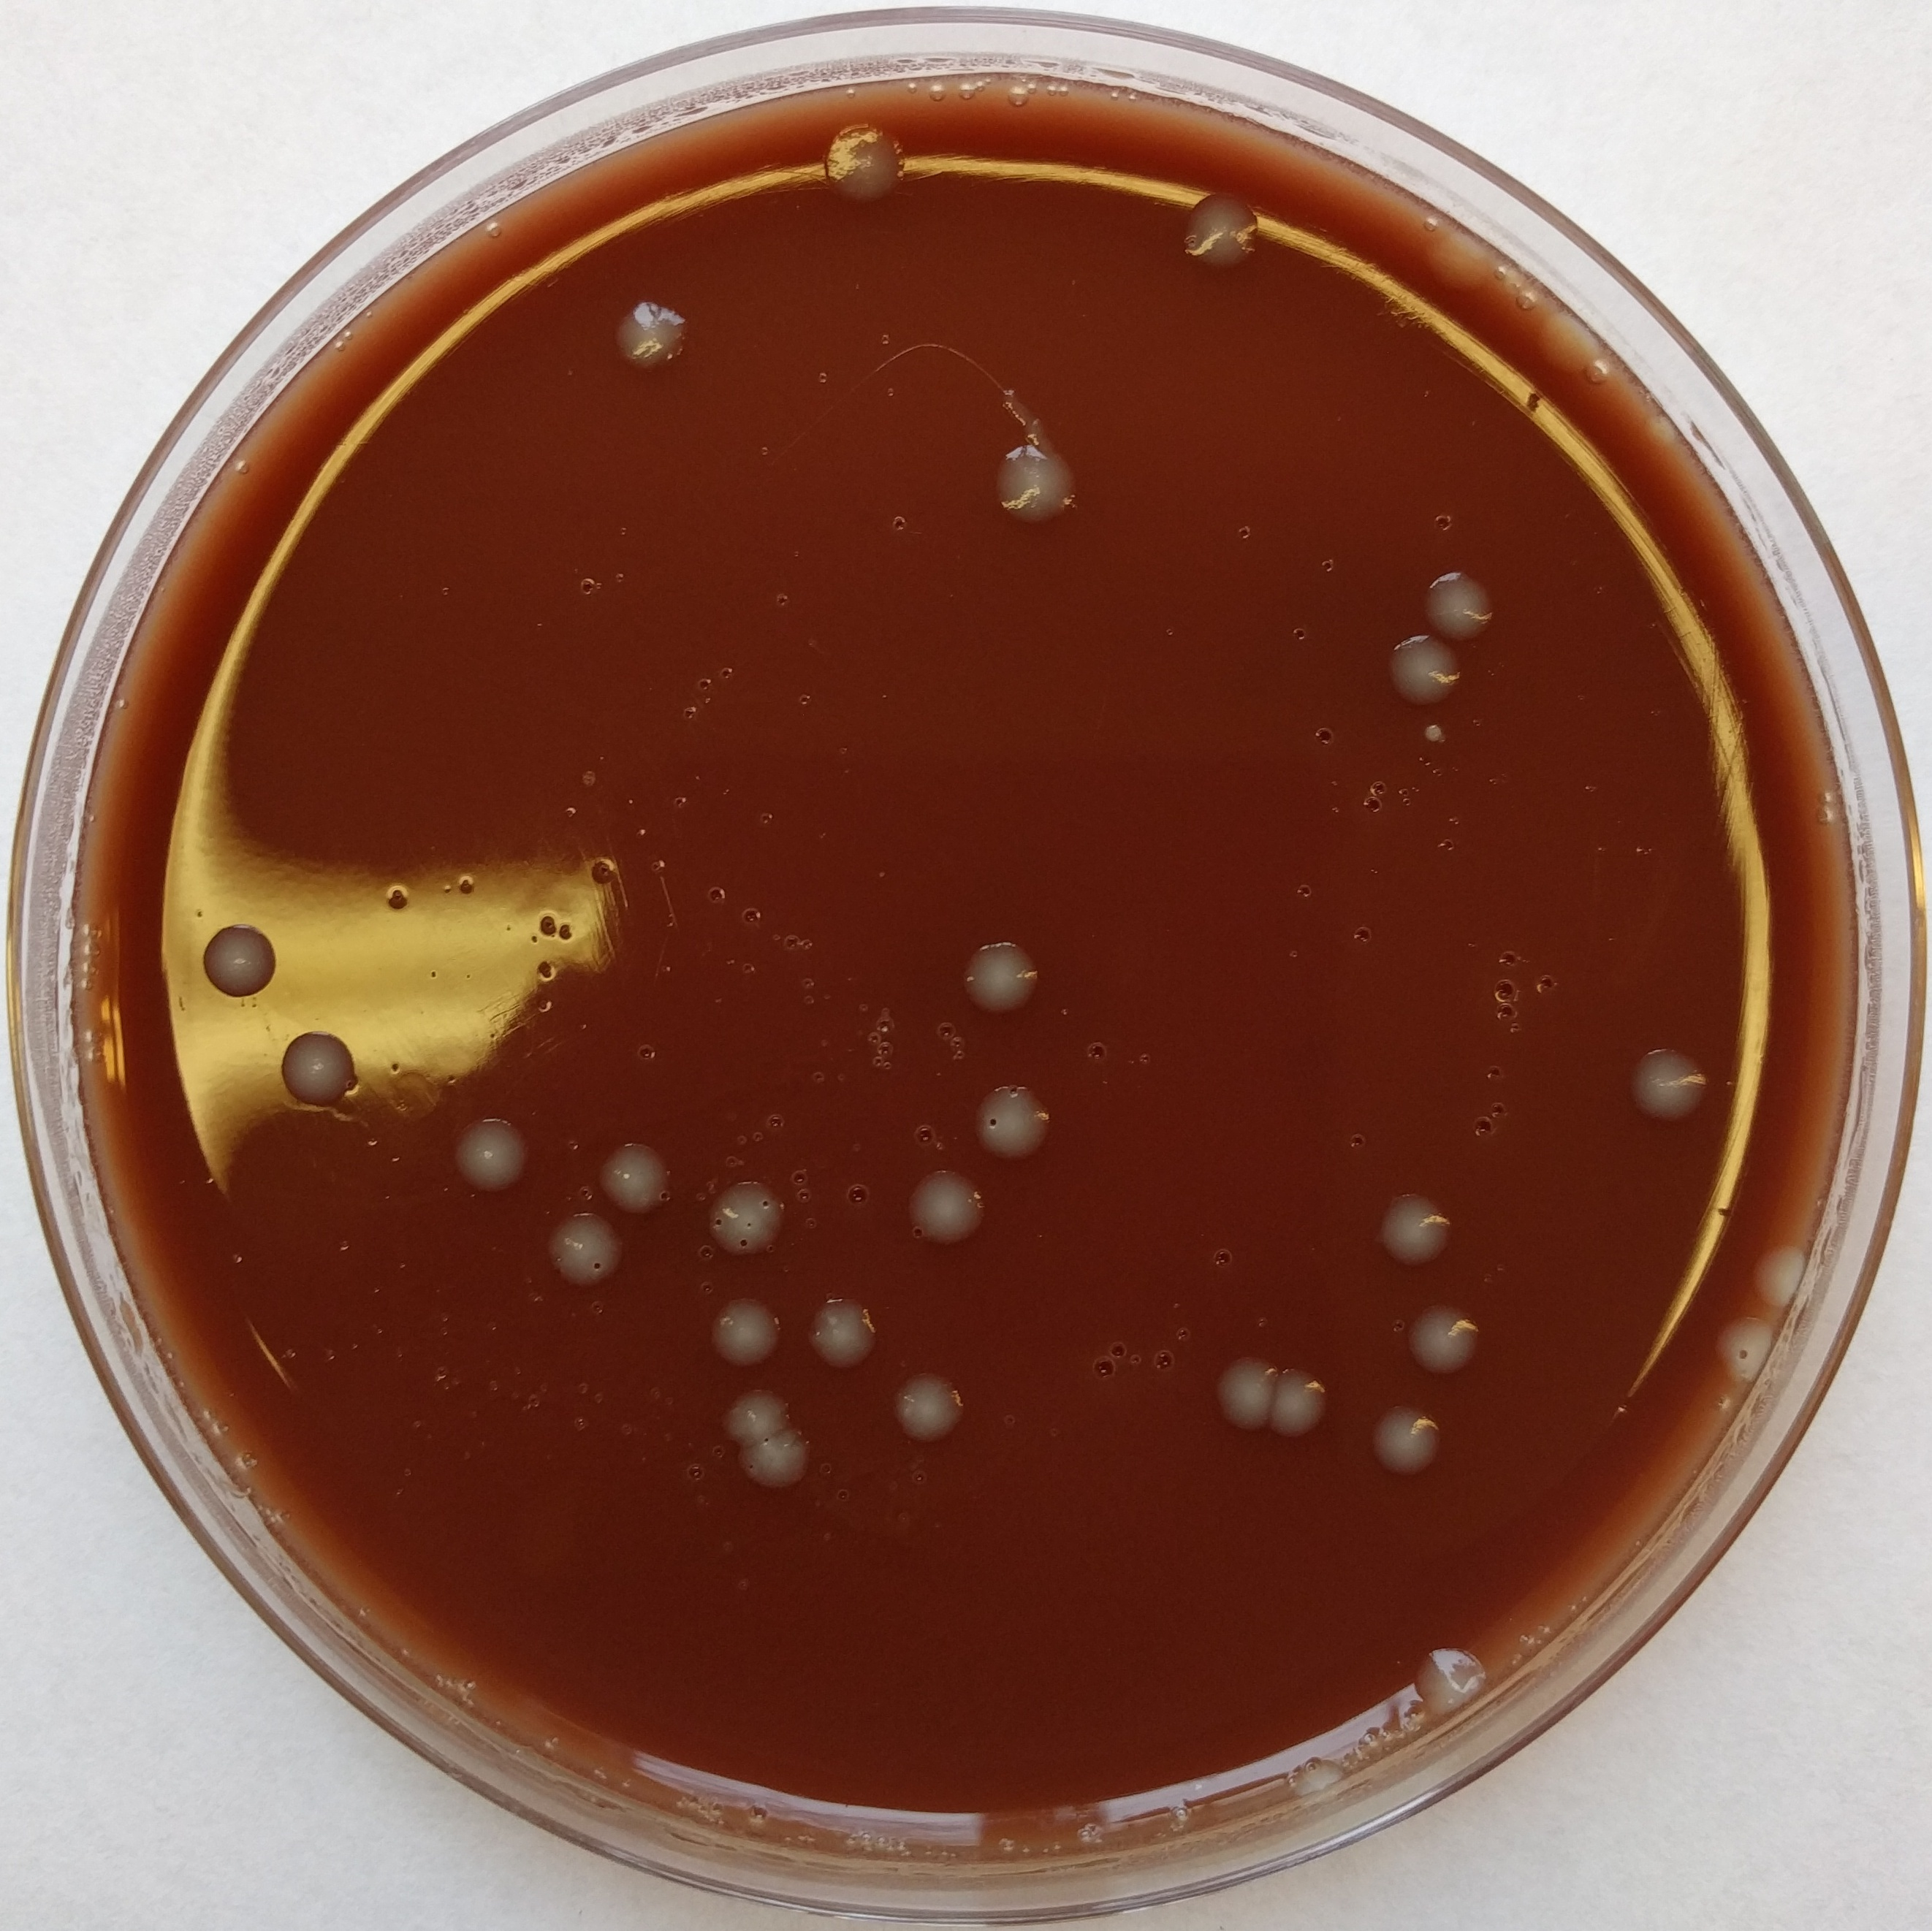sp02: (931, 361, 1097, 525), (584, 269, 740, 405), (1157, 157, 1279, 285), (796, 101, 932, 207), (1398, 1611, 1509, 1724), (170, 904, 292, 1006), (1185, 1342, 1293, 1454), (435, 1096, 541, 1199), (589, 1119, 697, 1218), (941, 918, 1042, 1020), (883, 1342, 980, 1448), (1373, 619, 1481, 713), (886, 1164, 1000, 1252), (1610, 1029, 1716, 1121), (1412, 552, 1529, 635), (970, 1068, 1053, 1185), (695, 1284, 793, 1378), (1269, 1337, 1346, 1448), (724, 1423, 835, 1501), (1369, 1178, 1453, 1280), (709, 1164, 793, 1261), (1706, 1312, 1794, 1401), (690, 1362, 801, 1431), (1403, 1298, 1495, 1381), (1373, 1390, 1458, 1478), (1422, 214, 1499, 311), (801, 1278, 888, 1363), (1739, 1222, 1828, 1305), (271, 1038, 354, 1118), (1532, 301, 1603, 393), (541, 1208, 625, 1286)
